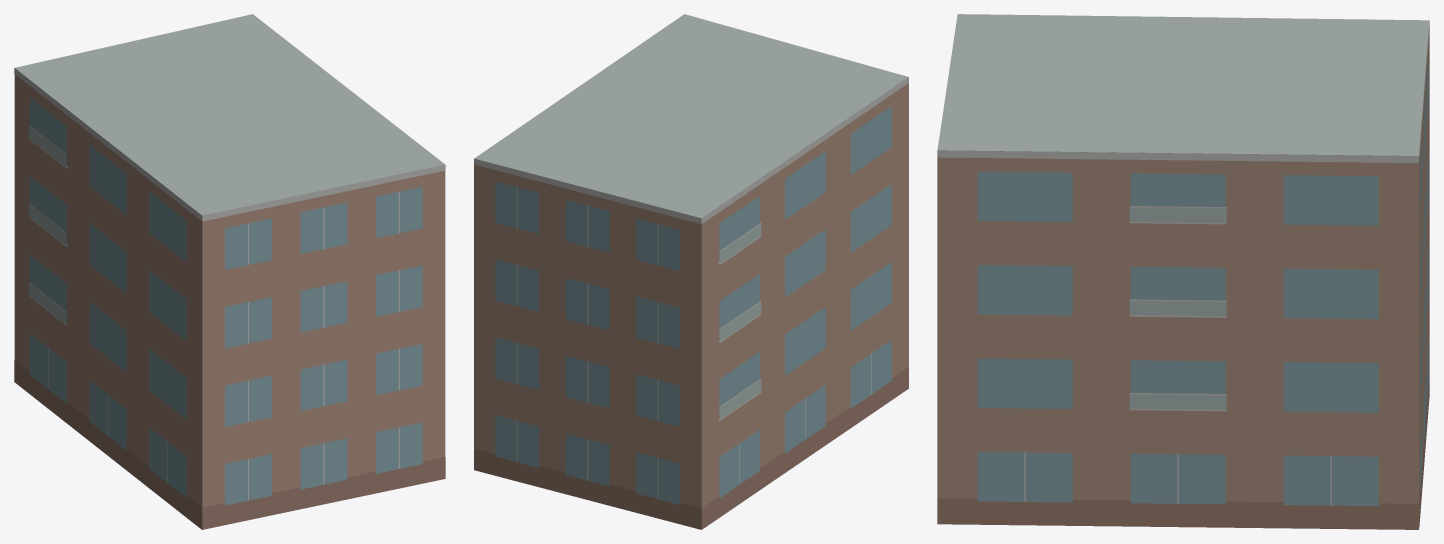
Rendered from survey-upis-32918085.glb.
3 renders of one model, left to right at view 1: azimuth 30°, elevation 25°; view 2: azimuth 150°, elevation 25°; view 3: azimuth 270°, elevation 25°, orthographic. The views are drawn at different scales.
Visible parts, largest first — view 1: survey-upis-32918085.tmp; view 2: survey-upis-32918085.tmp; view 3: survey-upis-32918085.tmp.
Boxes of the visible parts, x1,y1,x2,y2 form: survey-upis-32918085.tmp: (14, 14, 445, 529); survey-upis-32918085.tmp: (474, 14, 908, 529); survey-upis-32918085.tmp: (937, 14, 1429, 529).
Size of the model in its own units: 10.44 by 12.8 by 15.28.
